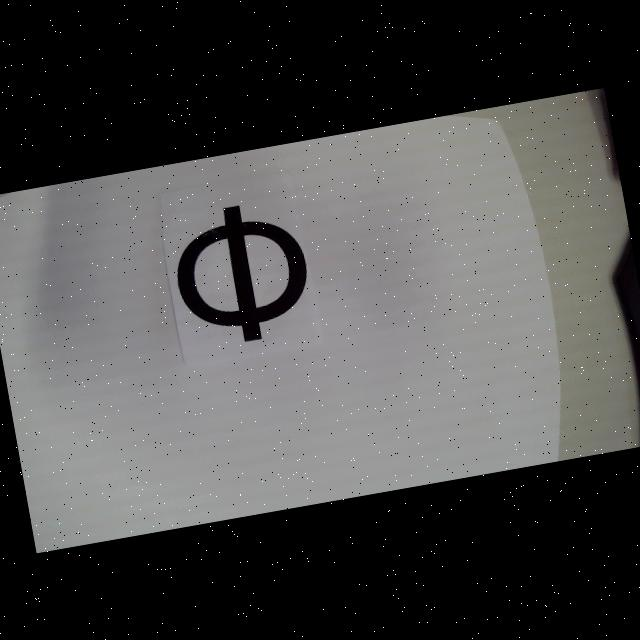PHI: (165, 194, 318, 352)
